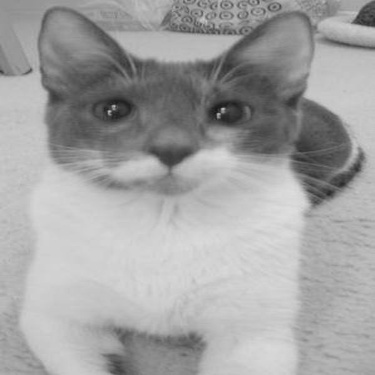cat: (5, 4, 369, 373)
